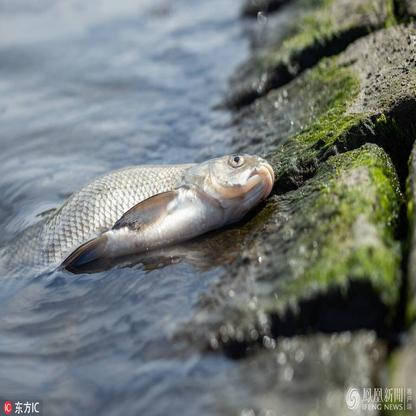deceased fish: (10, 151, 280, 271)
